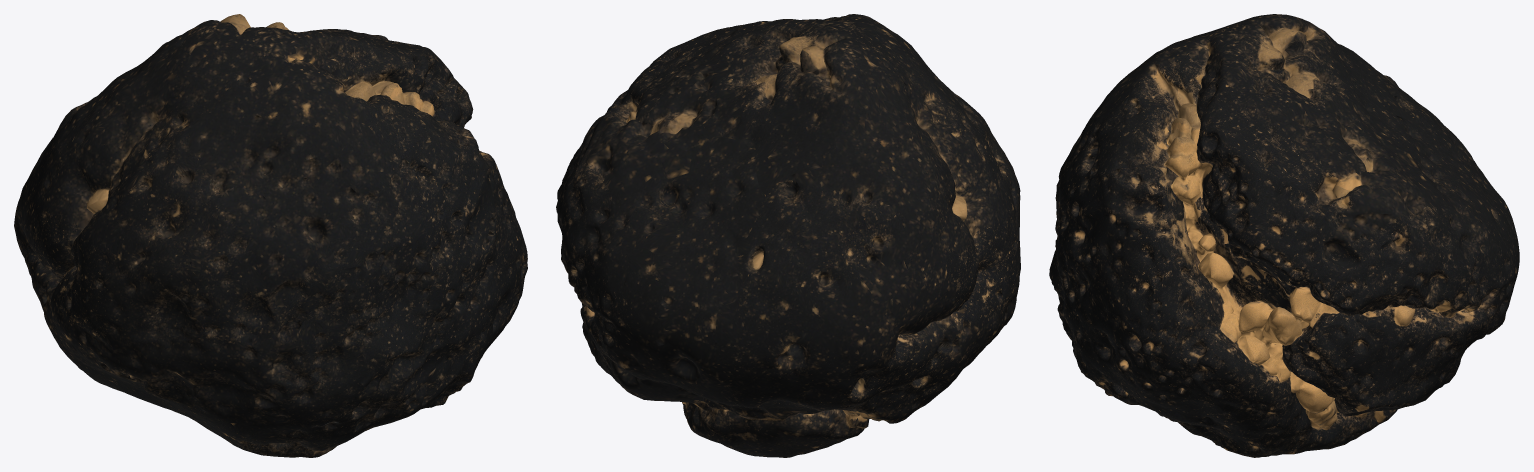
Rendered from goldenAsteroid.glb.
3 views of the same model, side by side, from view 1: azimuth 30°, elevation 25°; view 2: azimuth 150°, elevation 25°; view 3: azimuth 270°, elevation 25° (orthographic). The views are drawn at different scales.
Visible parts, largest first — view 1: goldenAsteroid.001; view 2: goldenAsteroid.001; view 3: goldenAsteroid.001.
Part boxes in pixels (box(x1,y1,x2,y2)): goldenAsteroid.001: box(14, 14, 527, 457); goldenAsteroid.001: box(556, 14, 1020, 457); goldenAsteroid.001: box(1049, 14, 1519, 457).
Bounding box in the file's own units: 0.1438 × 0.1376 × 0.1507.
Materials: 1 (1 with a texture image).
